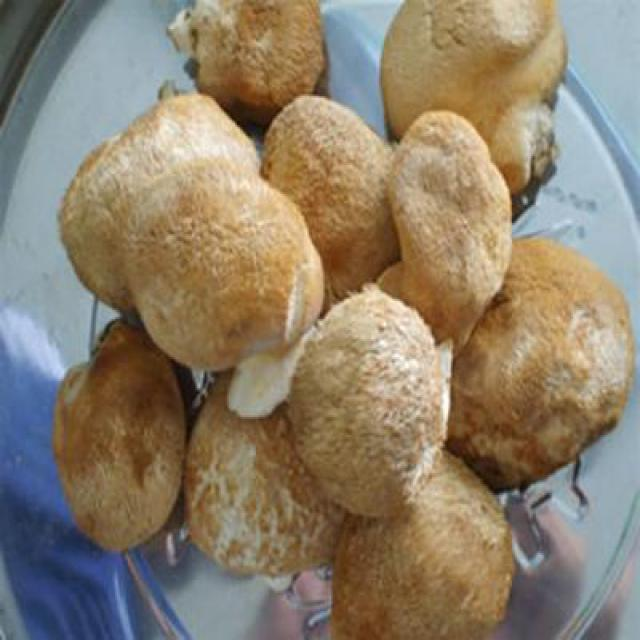Hericium erinaceus: (61, 99, 323, 370), (449, 242, 633, 489), (297, 291, 453, 520), (195, 349, 347, 574), (332, 461, 515, 639), (53, 318, 190, 551), (392, 111, 510, 345), (265, 94, 396, 278)
